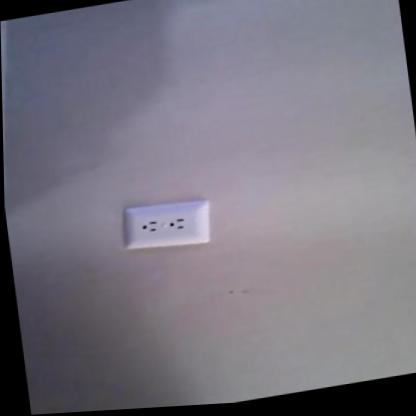OUTLET: (120, 194, 211, 257)
